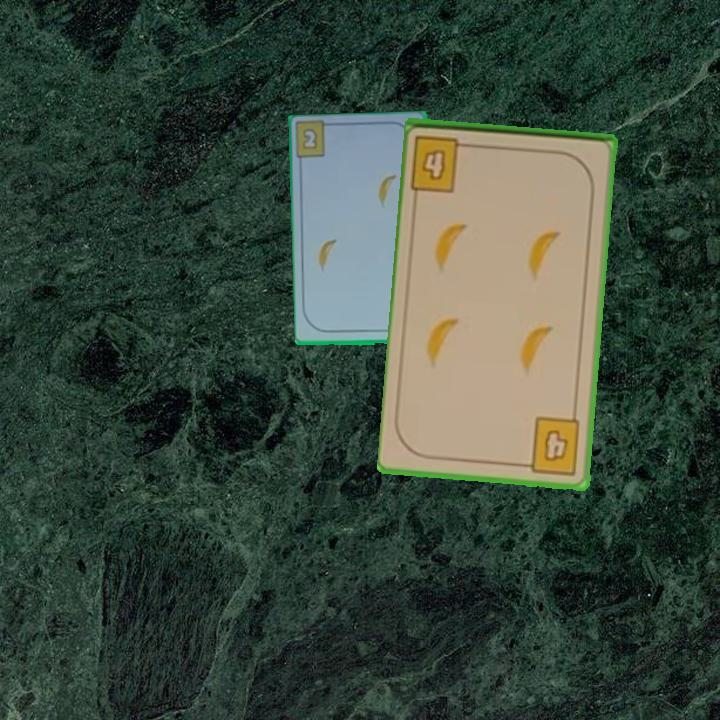2b: (299, 125, 320, 152)
4b: (517, 413, 583, 478), (408, 132, 476, 195)
